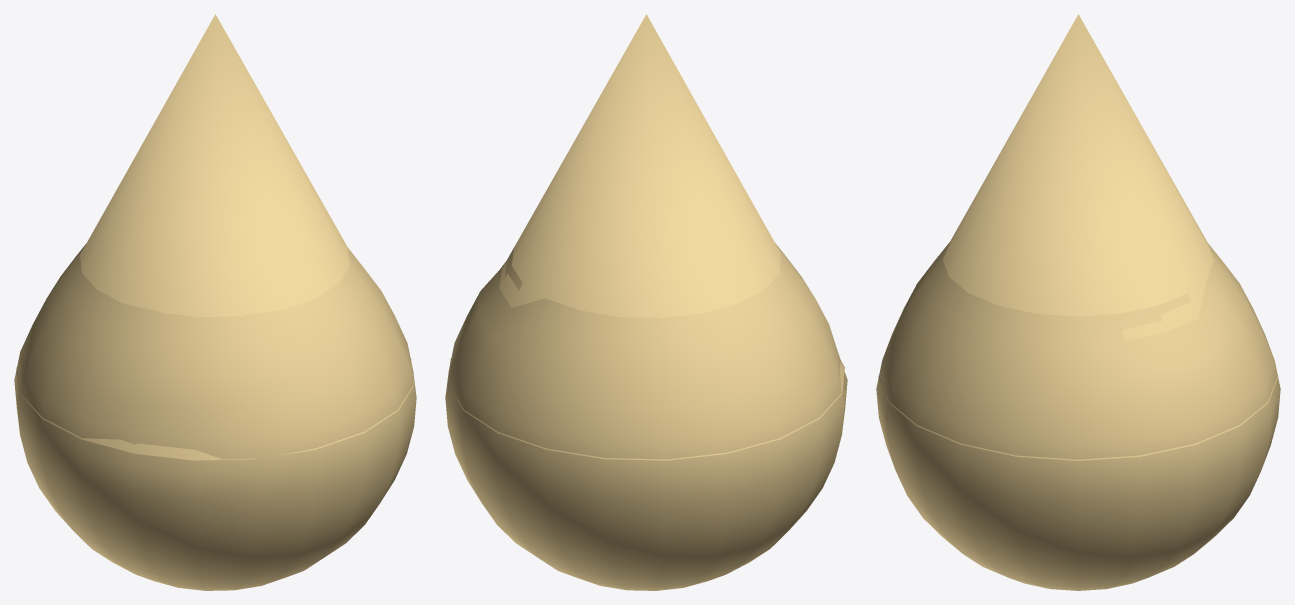
The model's file is Tree_Sap.fbx.
3 renders of one model, left to right at view 1: azimuth 30°, elevation 25°; view 2: azimuth 150°, elevation 25°; view 3: azimuth 270°, elevation 25°, orthographic.
Visible parts, largest first — view 1: pasted__pSphere2; view 2: pasted__pSphere2; view 3: pasted__pSphere2.
Part boxes in pixels (x1=…): pasted__pSphere2: x1=14, y1=14, x2=416, y2=590; pasted__pSphere2: x1=445, y1=14, x2=847, y2=590; pasted__pSphere2: x1=876, y1=14, x2=1280, y2=590.
Bounding box in the file's own units: 3.3 × 5.02 × 3.3.
